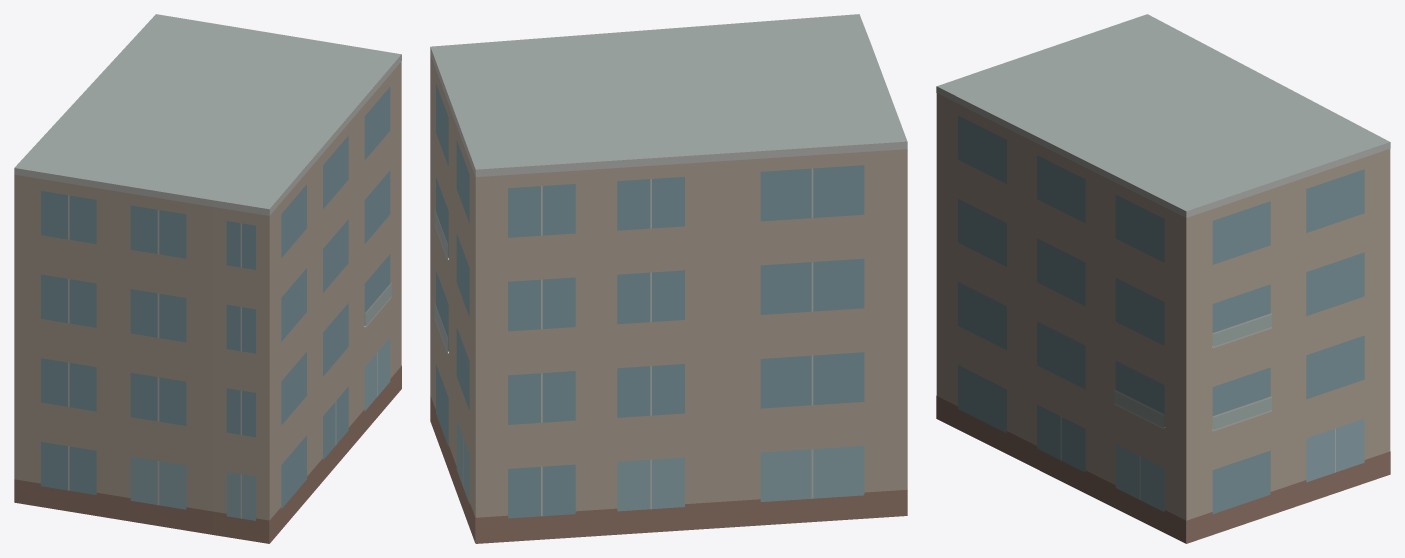
Rendered from survey-upis-32641353.glb.
3 renders of one model, left to right at view 1: azimuth 30°, elevation 25°; view 2: azimuth 150°, elevation 25°; view 3: azimuth 270°, elevation 25°, orthographic. The views are drawn at different scales.
Parts seen in each view (by area): view 1: survey-upis-32641353.tmp; view 2: survey-upis-32641353.tmp; view 3: survey-upis-32641353.tmp.
Boxes of the visible parts, x1,y1,x2,y2 form: survey-upis-32641353.tmp: (14,14,401,543); survey-upis-32641353.tmp: (430,14,907,543); survey-upis-32641353.tmp: (936,14,1390,543).
Bounding box in the file's own units: 15.54 × 12.2 × 15.1.
